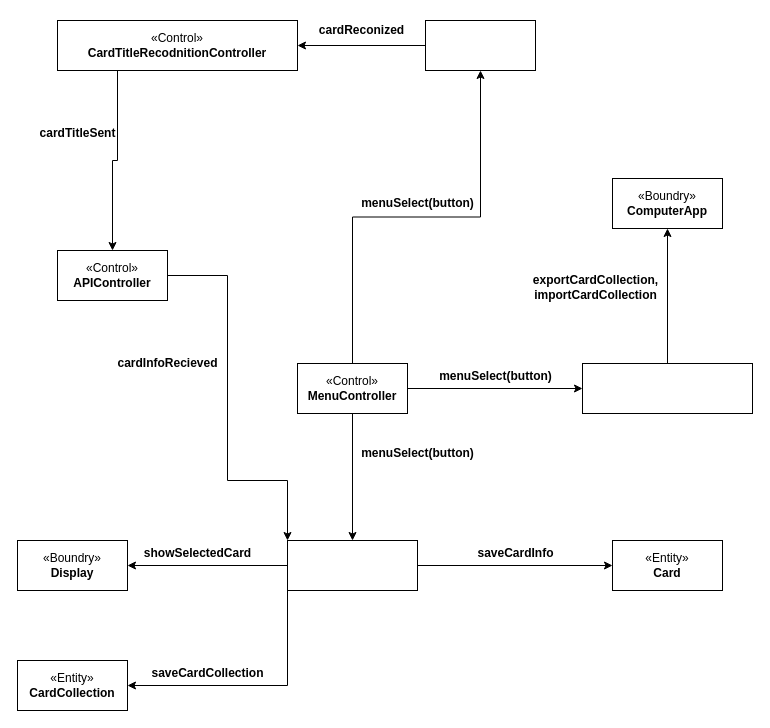
This 770x728 diagram has some shape labels left out. The centre of each missing label's shape, as x and y in pixels:
"«Boundry» Camera" goes at [480,45].
"«Control» CollectionController" goes at [352,565].
"«Control» ExportAndImportController" goes at [667,388].
